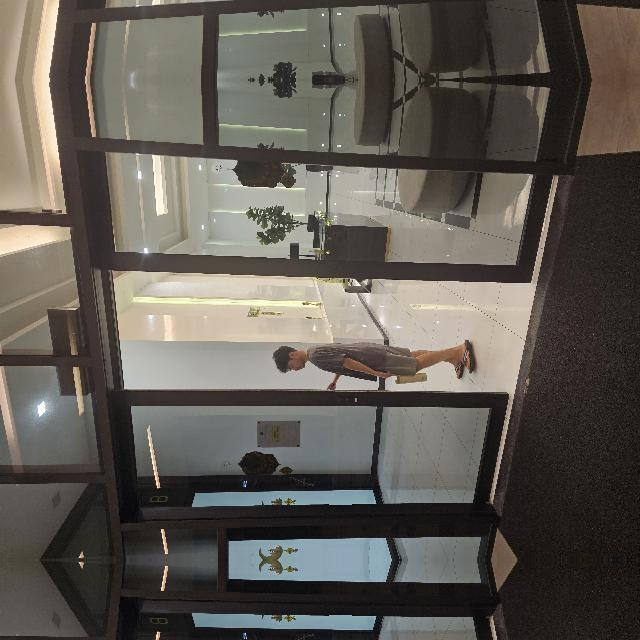door: (0, 172, 174, 586), (276, 162, 416, 628), (275, 492, 416, 640), (0, 534, 174, 640)
obstacle: (344, 474, 476, 564), (344, 556, 476, 640), (296, 391, 350, 471), (314, 324, 356, 398)
person: (165, 344, 243, 560), (165, 560, 243, 640)
